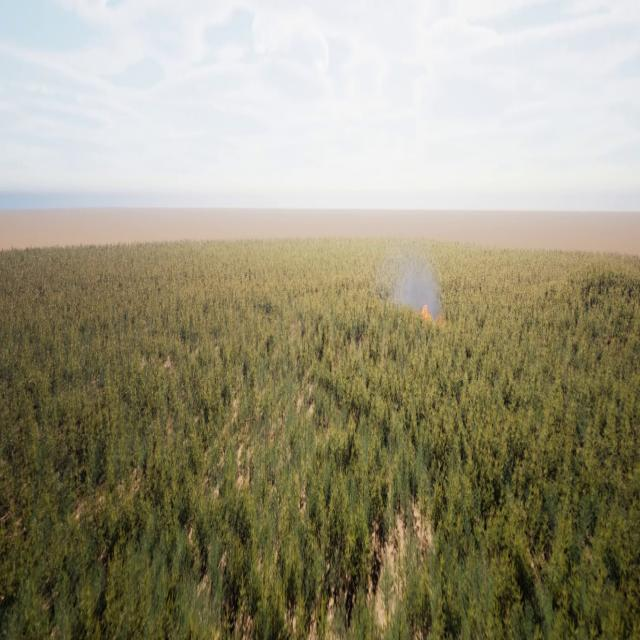fire: (418, 295, 434, 318)
smoke: (388, 253, 446, 322)
